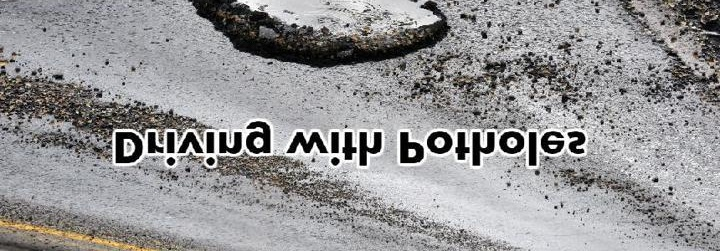pothole: (181, 0, 452, 71)
